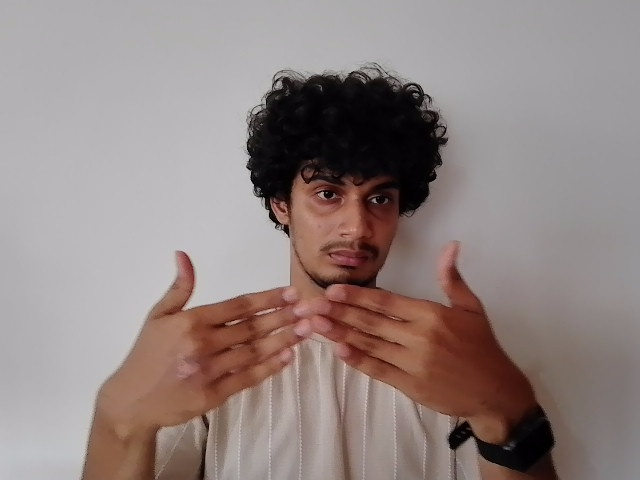family: (102, 239, 537, 437)
